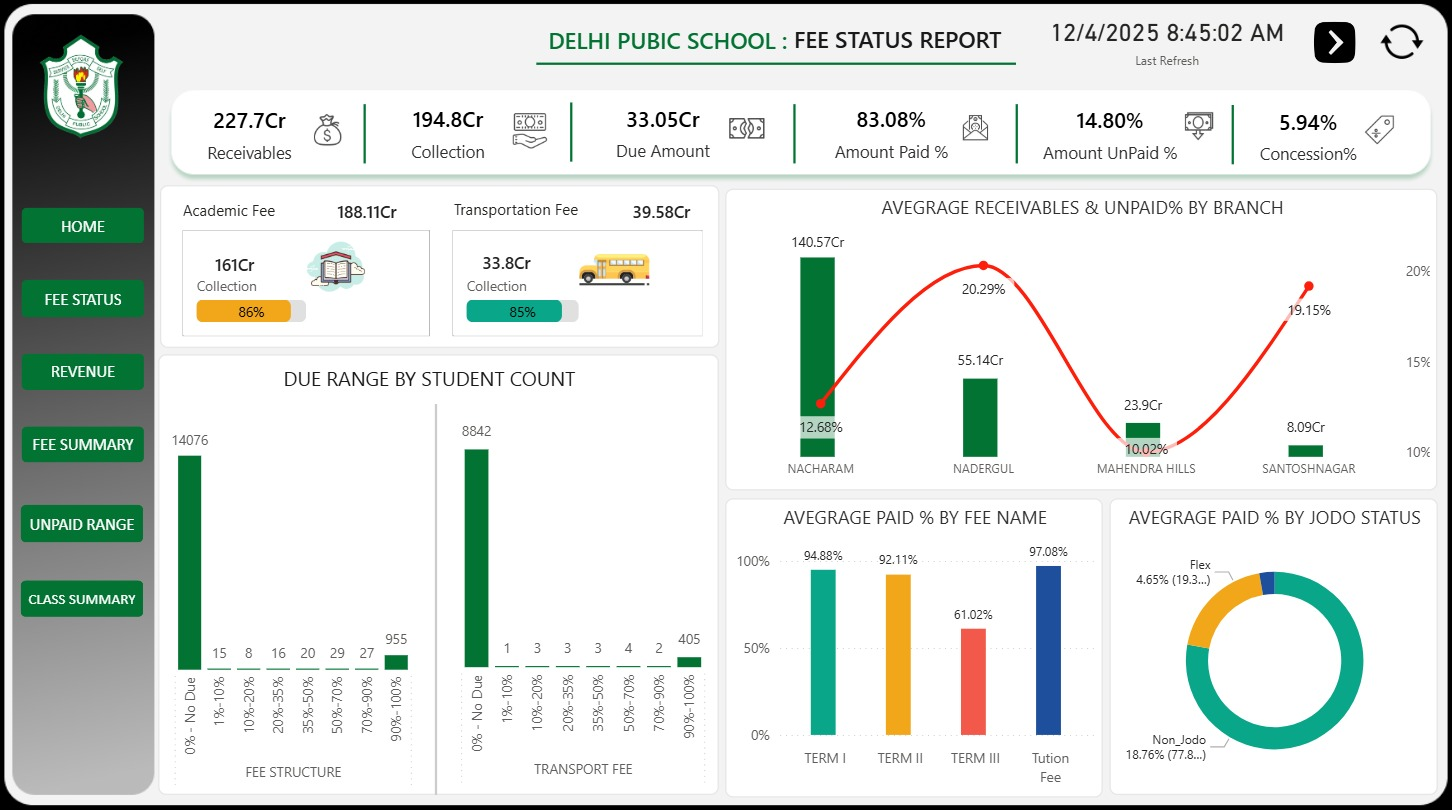

What the dashboard file says about the page in this screenshot:
{"tool":"powerbi","page":{"name":"Report","canvas":[1280,720],"ordinal":0},"visuals":[{"type":"textbox","box":[274.4,27.4,717.7,50],"z":9},{"type":"card","fields":{"Values":["Fee_Summary.Total Receivable"]},"box":[289.8,77,155.3,74.6],"z":10,"group":"g1"},{"type":"card","fields":{"Values":["Fee_Summary.Total collection"]},"box":[445.1,77,155.3,74.6],"z":11,"group":"g1"},{"type":"card","fields":{"Values":["Fee_Summary.Total Due"]},"box":[578.4,77,155.3,74.6],"z":12,"group":"g1"},{"type":"card","fields":{"Values":["Fee_Summary.paid%"]},"box":[733.7,77,187.1,74.6],"z":13,"group":"g1"},{"type":"card","fields":{"Values":["Fee_Summary.unpaid%"]},"box":[920.8,78.2,168.8,74.6],"z":14,"group":"g1"},{"type":"card","fields":{"Values":["Fee_Summary.Total Concession"]},"box":[1089.5,78.2,190.8,74.6],"z":15,"group":"g1"},{"type":"group","id":"g1","title":"Group 1","box":[289.8,77,990.5,75.8],"z":16},{"type":"lineStackedColumnComboChart","title":"Average Receivables and Unpaid by Branch","fields":{"Y":["Fee_Summary.AVg_Receivable_Branch"],"Category":["Fee_Summary.Branch Name"],"Y2":["Fee_Summary.unpaid%byBranch"]},"box":[796.1,152.9,484.2,355.8],"z":17},{"type":"clusteredColumnChart","title":"Average Paid by Types","fields":{"Category":["Fee_Summary.Fee Type"],"Y":["Fee_Summary.avgPaid%BYFee"]},"box":[255.6,152.9,540.5,333.8],"z":18},{"type":"columnChart","fields":{"Y":["Fee_Summary.Academic_fee_total","Fee_Summary.Academic_fee_collection"]},"box":[339.9,539.3,260.5,181],"z":19},{"type":"columnChart","fields":{"Y":["Fee_Summary.Transport_fee_total","Fee_Summary.Transport_fee_collection"]},"box":[600.4,539.3,305.7,181],"z":20},{"type":"textbox","box":[391.3,487.9,447.6,51.4],"z":21},{"type":"donutChart","fields":{"Y":["Fee_Summary.avgPaid%BYFee"],"Category":["Fee_Summary.Jodo Status"]},"box":[838.9,503.8,441.4,212.8],"z":22},{"type":"barChart","title":"Curriculam Analysis","fields":{"Category":["Fee_Summary.Curriculum"],"Y":["Fee_Summary.Total collection","Fee_Summary.Total Due"]},"box":[0,487.9,391.3,228.7],"z":23},{"type":"columnChart","title":"Collections as per students","fields":{"Category":["Fee_Summary.Student Status"],"Y":["Fee_Summary.Total collection","Fee_Summary.unpaid%"]},"box":[0,152.9,255.6,333.8],"z":24},{"type":"card","fields":{"Values":["Fee_Summary.Academic_fee_collection"]},"box":[991.7,3.7,255.6,74.6],"z":25},{"type":"card","fields":{"Values":["Fee_Summary.Transport_fee_collection"]},"box":[18.3,3.7,255.6,74.6],"z":26}]}

Visuals, with their boxes in screenshot pixels (x1, y1, x2, y2), scaled from the page's 1280x720 canvas onto the 1452x810 screenshot:
textbox: detection(311, 31, 1125, 87)
card - Fee_Summary.Total Receivable: detection(329, 87, 505, 171)
card - Fee_Summary.Total collection: detection(505, 87, 681, 171)
card - Fee_Summary.Total Due: detection(656, 87, 832, 171)
card - Fee_Summary.paid%: detection(832, 87, 1045, 171)
card - Fee_Summary.unpaid%: detection(1045, 88, 1236, 172)
card - Fee_Summary.Total Concession: detection(1236, 88, 1451, 172)
"Group 1" group: detection(329, 87, 1451, 172)
"Average Receivables and Unpaid by Branch" lineStackedColumnComboChart: detection(903, 172, 1451, 572)
"Average Paid by Types" clusteredColumnChart: detection(290, 172, 903, 548)
columnChart - Fee_Summary.Academic_fee_total x Fee_Summary.Academic_fee_collection: detection(386, 607, 681, 809)
columnChart - Fee_Summary.Transport_fee_total x Fee_Summary.Transport_fee_collection: detection(681, 607, 1028, 809)
textbox: detection(444, 549, 952, 607)
donutChart - Fee_Summary.avgPaid%BYFee x Fee_Summary.Jodo Status: detection(952, 567, 1451, 806)
"Curriculam Analysis" barChart: detection(0, 549, 444, 806)
"Collections as per students" columnChart: detection(0, 172, 290, 548)
card - Fee_Summary.Academic_fee_collection: detection(1125, 4, 1415, 88)
card - Fee_Summary.Transport_fee_collection: detection(21, 4, 311, 88)
